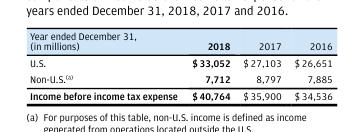table: (29, 29, 331, 101)
table column: (29, 29, 184, 101), (184, 29, 236, 101), (236, 29, 287, 101), (287, 29, 331, 101)
table column header: (29, 29, 331, 53)
table row: (29, 29, 331, 53), (29, 53, 331, 70), (29, 70, 331, 86), (29, 86, 331, 101)
